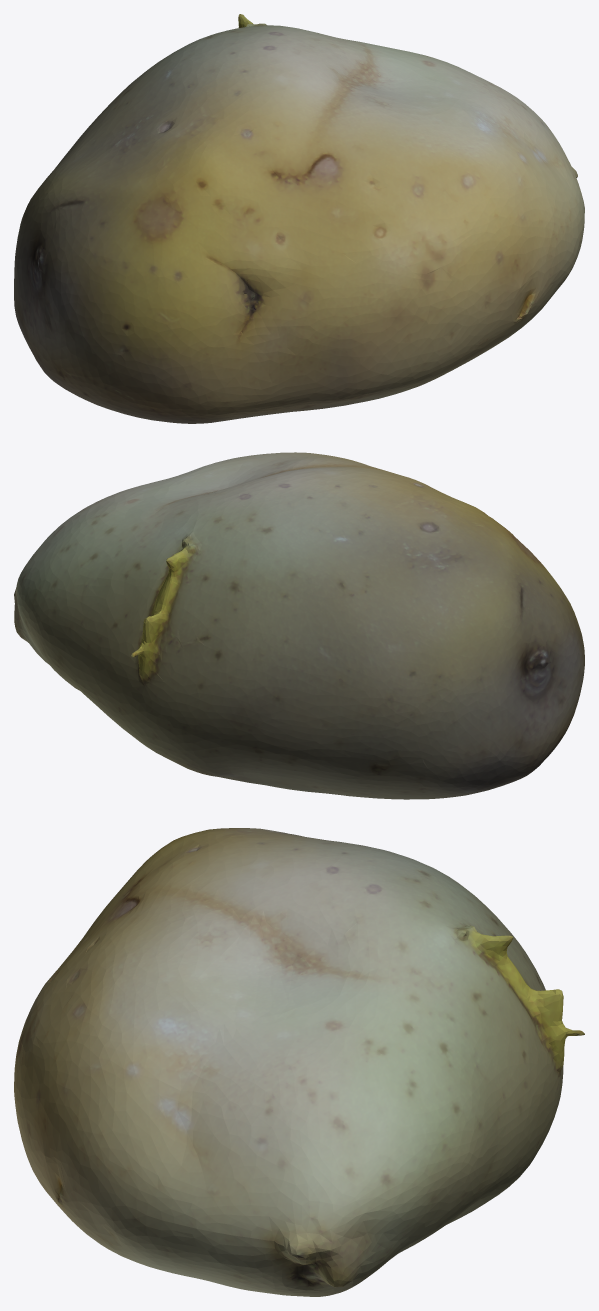
The model's file is potato_ai_mesh_3.glb.
3 renders of one model, top to bottom at view 1: azimuth 30°, elevation 25°; view 2: azimuth 150°, elevation 25°; view 3: azimuth 270°, elevation 25°, orthographic. The views are drawn at different scales.
Parts seen in each view (by area): view 1: world; view 2: world; view 3: world.
Boxes of the visible parts, bbox=[...] form: world: bbox=[14, 14, 584, 423]; world: bbox=[14, 452, 584, 799]; world: bbox=[14, 828, 584, 1296].
Size of the model in its own units: 0.9808 by 0.5258 by 0.7534.
Materials: 1 (1 with a texture image).
